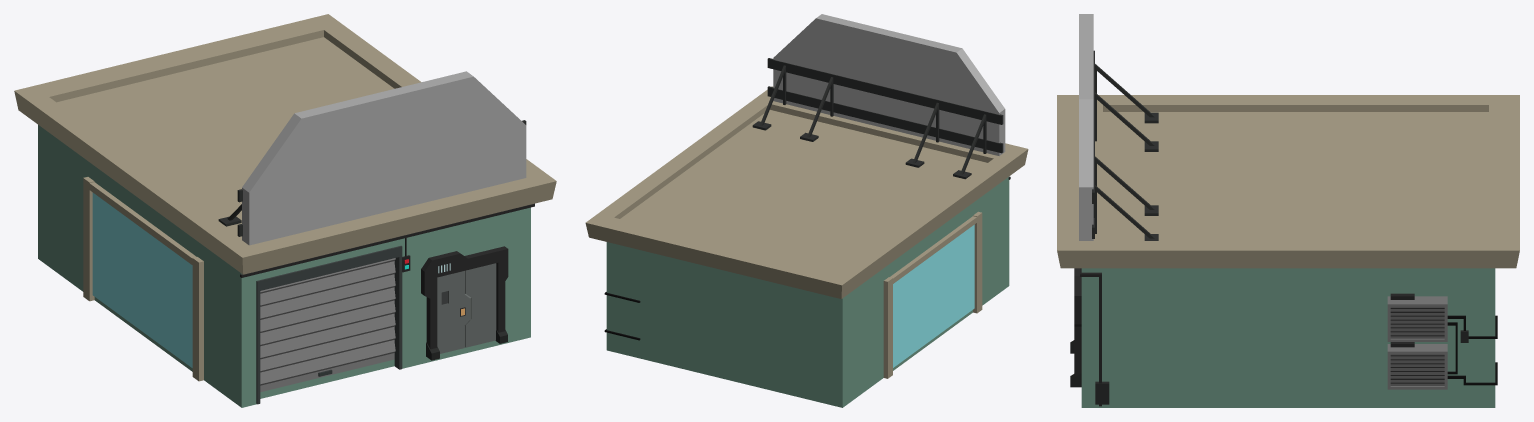
Rendered from Maintenance_Office.fbx.
3 views of the same model, side by side, from view 1: azimuth 30°, elevation 25°; view 2: azimuth 150°, elevation 25°; view 3: azimuth 270°, elevation 25° (orthographic). The views are drawn at different scales.
Parts seen in each view (by area): view 1: Maintenance_Office; view 2: Maintenance_Office; view 3: Maintenance_Office.
Part boxes in pixels (x1,y1,x2,y2): Maintenance_Office: [14, 14, 556, 407]; Maintenance_Office: [585, 14, 1028, 407]; Maintenance_Office: [1057, 14, 1519, 407].
Bounding box in the file's own units: 23.59 × 19.66 × 29.47.
Materials: 2 (2 with a texture image).
